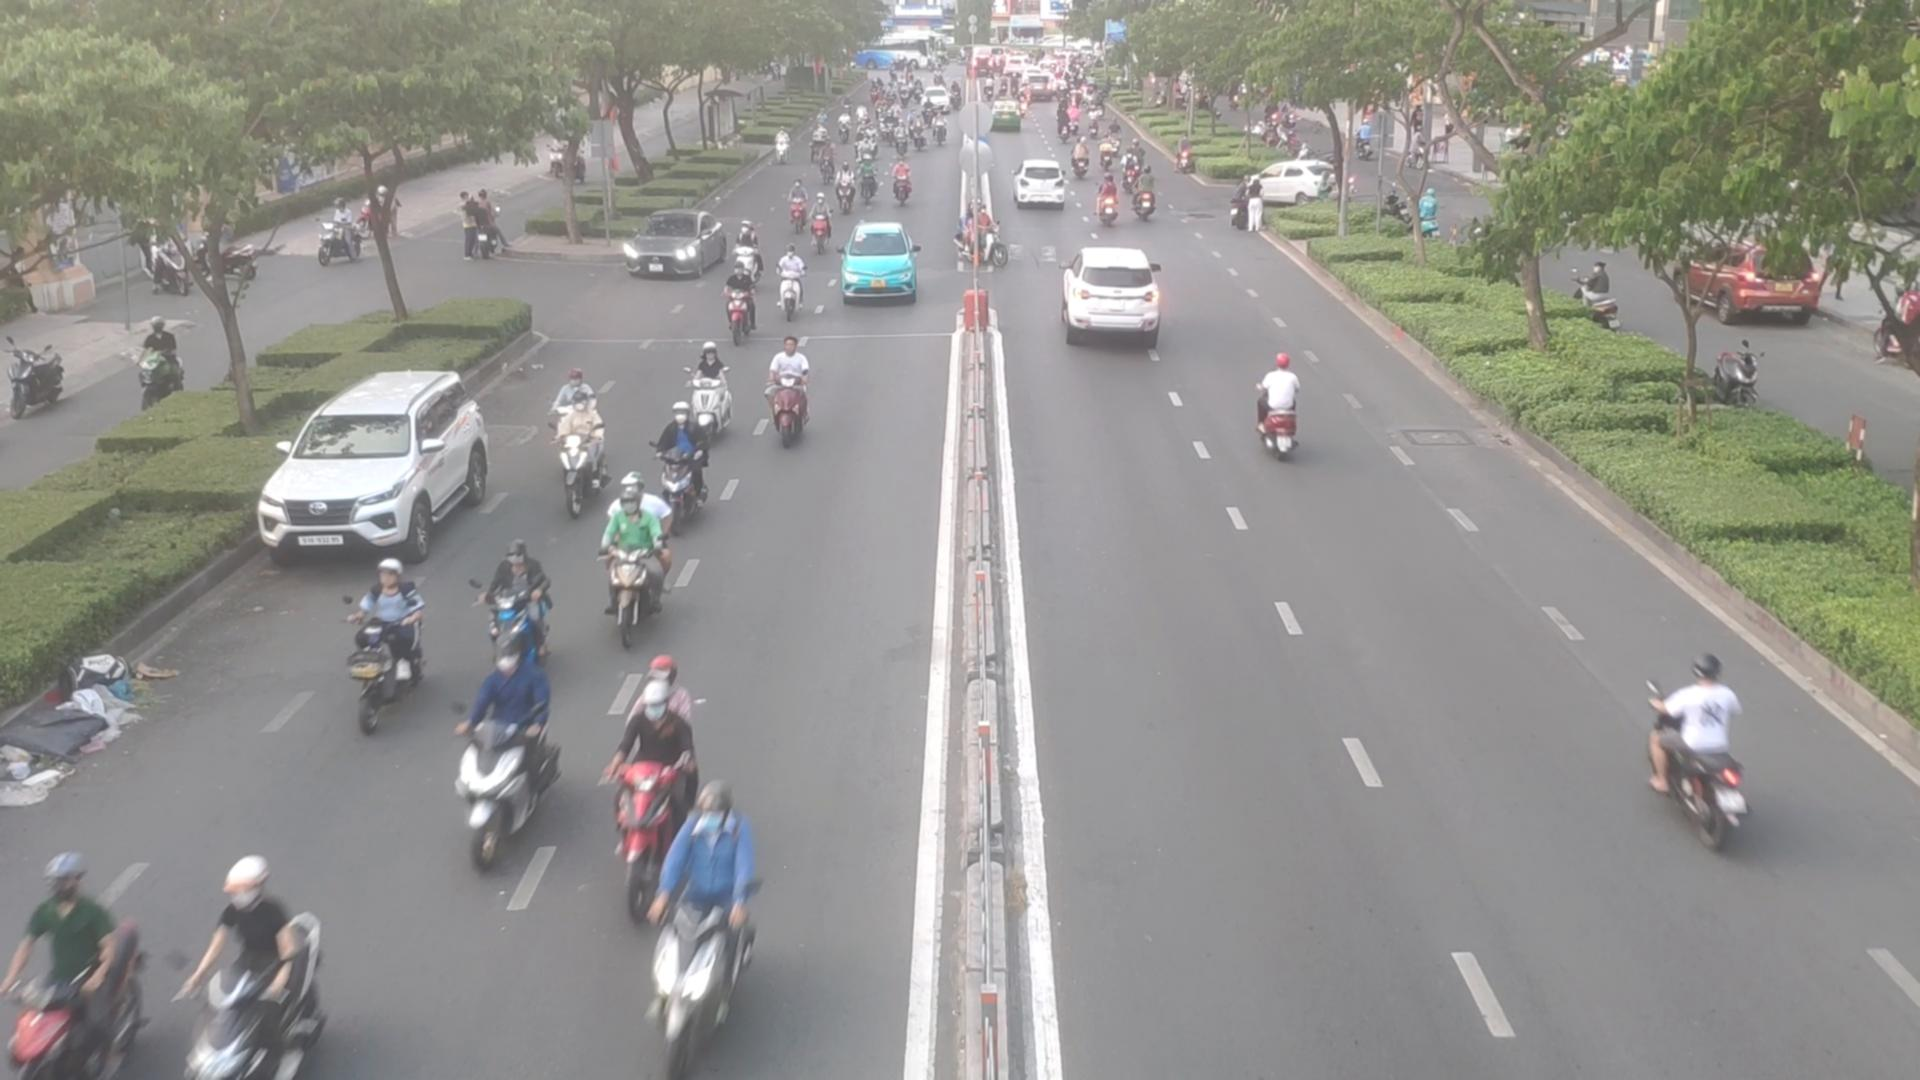car: (260, 372, 497, 567), (1059, 247, 1160, 345), (622, 214, 736, 281), (836, 227, 919, 305), (1014, 158, 1071, 208)
motorbike: (595, 786, 808, 1062), (171, 837, 348, 1080), (1, 853, 142, 1080), (444, 651, 578, 870), (578, 663, 691, 884), (342, 541, 439, 728), (1662, 666, 1762, 808), (477, 545, 558, 670), (605, 473, 666, 630), (1251, 343, 1328, 462), (564, 396, 630, 500), (765, 335, 823, 447), (659, 396, 708, 525), (694, 345, 738, 440), (715, 265, 762, 347), (953, 208, 1009, 268), (541, 361, 588, 429), (778, 239, 808, 309), (804, 190, 833, 257), (1092, 177, 1124, 232), (738, 222, 765, 287), (890, 156, 919, 208), (781, 179, 808, 233), (856, 153, 881, 200), (1135, 166, 1156, 220), (837, 158, 855, 219), (1121, 148, 1142, 195), (819, 142, 837, 182)
